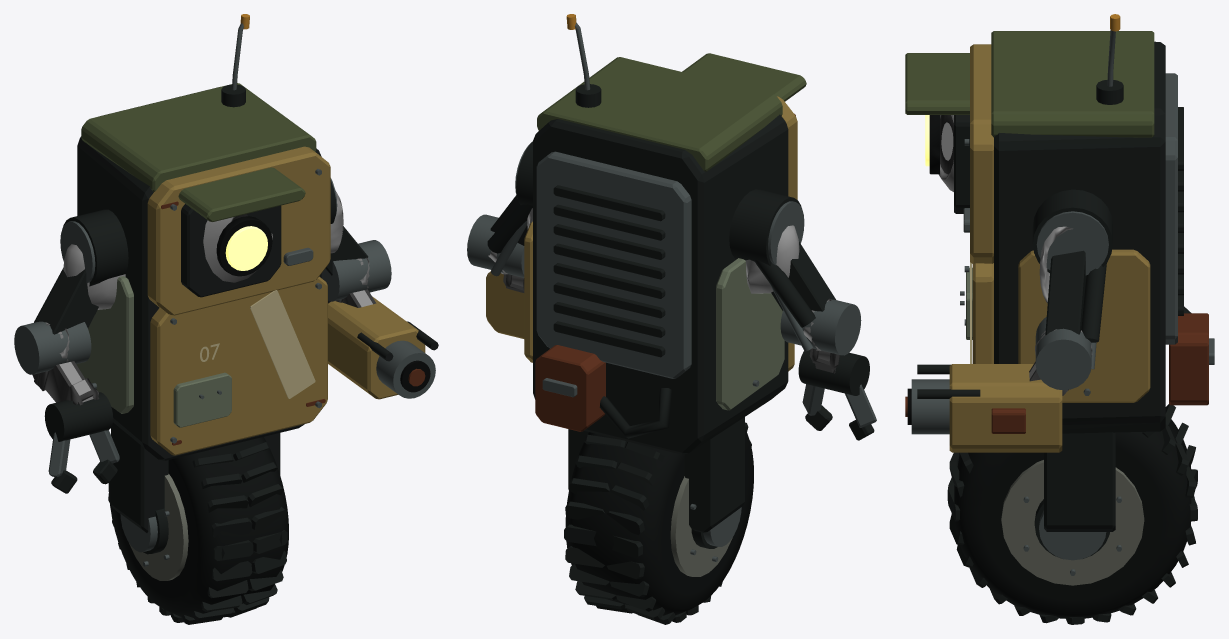
File: KLONKBOT.hi.glb
3 views of the same model, side by side, from view 1: azimuth 30°, elevation 25°; view 2: azimuth 150°, elevation 25°; view 3: azimuth 270°, elevation 25° (orthographic). The views are drawn at different scales.
Parts seen in each view (by area): view 1: body_geometry, wheel_geometry, armL_geometry, armR_geometry; view 2: body_geometry, wheel_geometry, armL_geometry, armR_geometry; view 3: body_geometry, wheel_geometry, armR_geometry.
Boxes of the visible parts, x1,y1,x2,y2 form: body_geometry: (63, 14, 336, 552); wheel_geometry: (108, 437, 288, 624); armL_geometry: (14, 221, 125, 493); armR_geometry: (321, 178, 438, 399); body_geometry: (516, 14, 806, 546); wheel_geometry: (564, 422, 753, 624); armL_geometry: (745, 201, 876, 440); armR_geometry: (467, 144, 532, 338); body_geometry: (905, 14, 1214, 560); wheel_geometry: (947, 404, 1197, 624); armR_geometry: (905, 211, 1108, 452).
Size of the model in its own units: 0.8037 by 1.2 by 0.541.
Materials: 2 (1 with a texture image).
